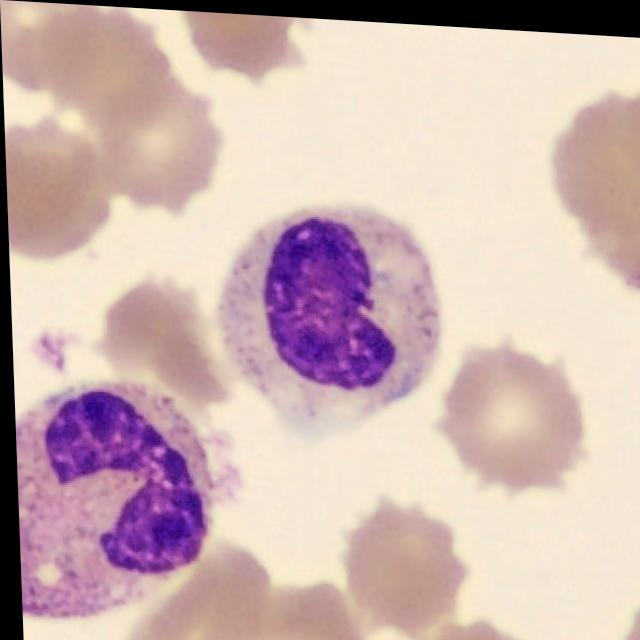Basofilo: (214, 204, 441, 425)
Neutrofilo segmentado: (12, 378, 216, 622)
